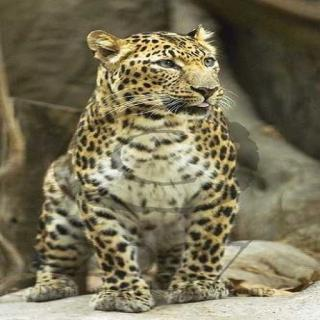Leopard: (49, 1, 291, 320)
